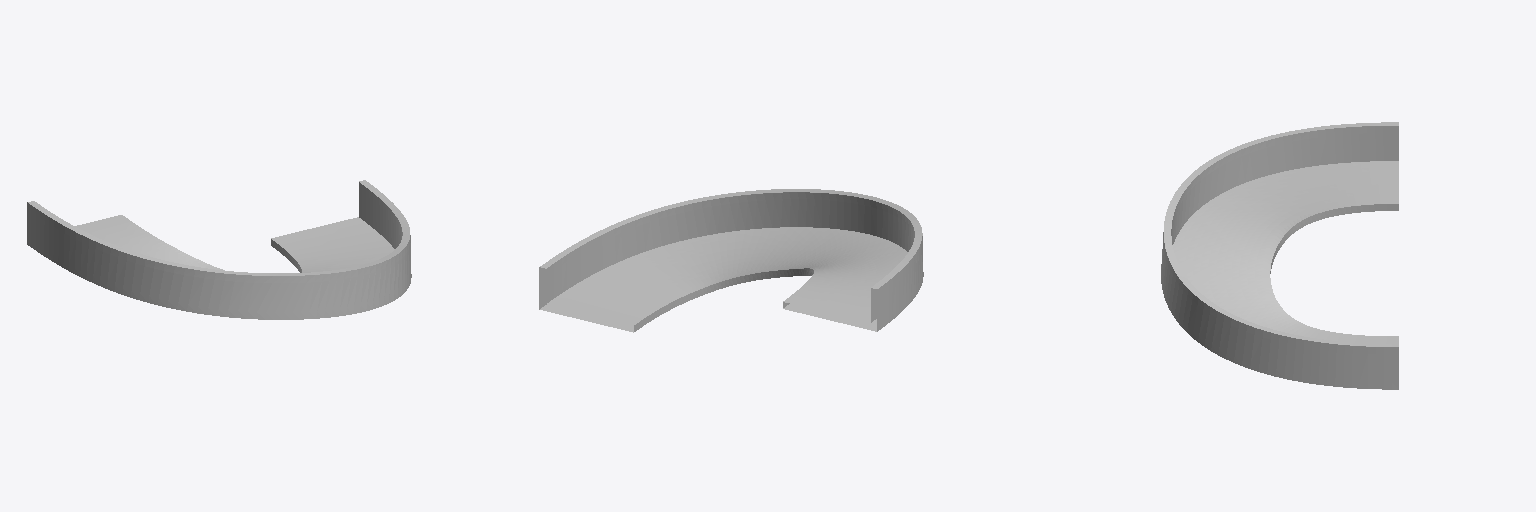
File: SlopeMomentum_BMCurve2.obj
3 views of the same model, side by side, from view 1: azimuth 30°, elevation 25°; view 2: azimuth 150°, elevation 25°; view 3: azimuth 270°, elevation 25° (orthographic).
Parts seen in each view (by area): view 1: Cube_Cube.001; view 2: Cube_Cube.001; view 3: Cube_Cube.001.
Part boxes in pixels (bbox=[...]): Cube_Cube.001: bbox=[27, 180, 411, 319]; Cube_Cube.001: bbox=[539, 189, 923, 332]; Cube_Cube.001: bbox=[1161, 122, 1398, 389].
Size of the model in its own units: 25 by 7.25 by 15.27.